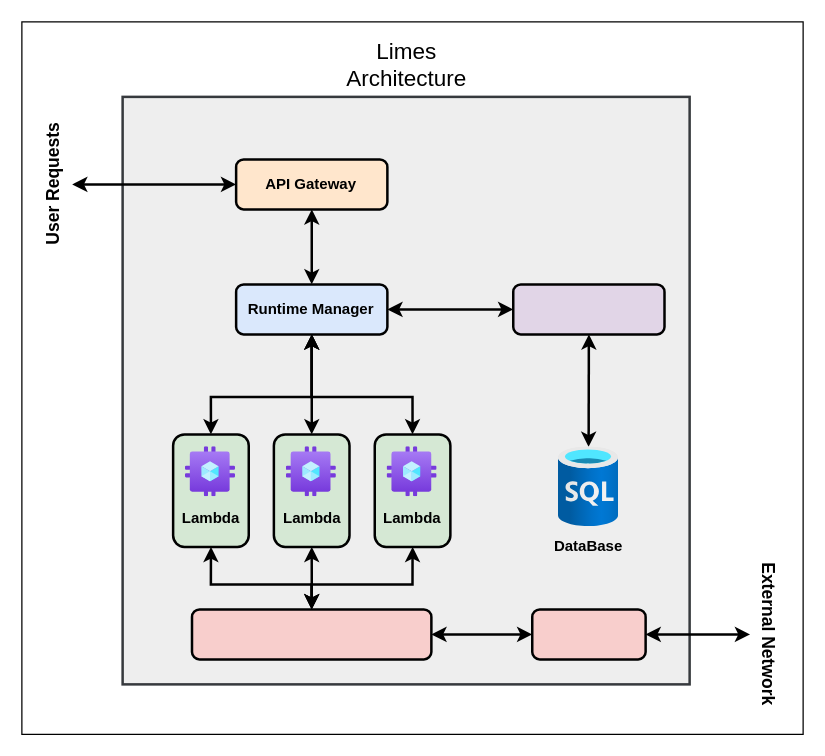
Some shapes in this 825 by 756 pixel diagram are drawn without their labels. The centre of each missing label's shape, as x and y in pixels:
"Bridge" belongs at (588,634).
"Lambda Registry" belongs at (588,308).
"Network Interface" belongs at (311,634).
